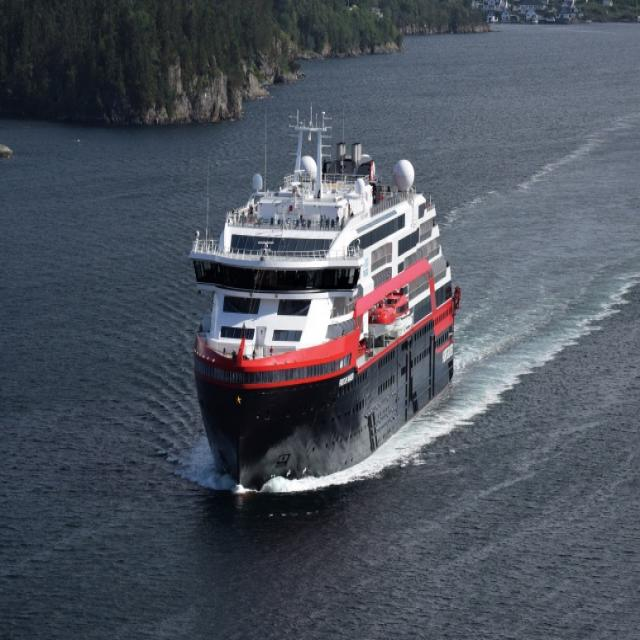cruises: (185, 98, 471, 498)
